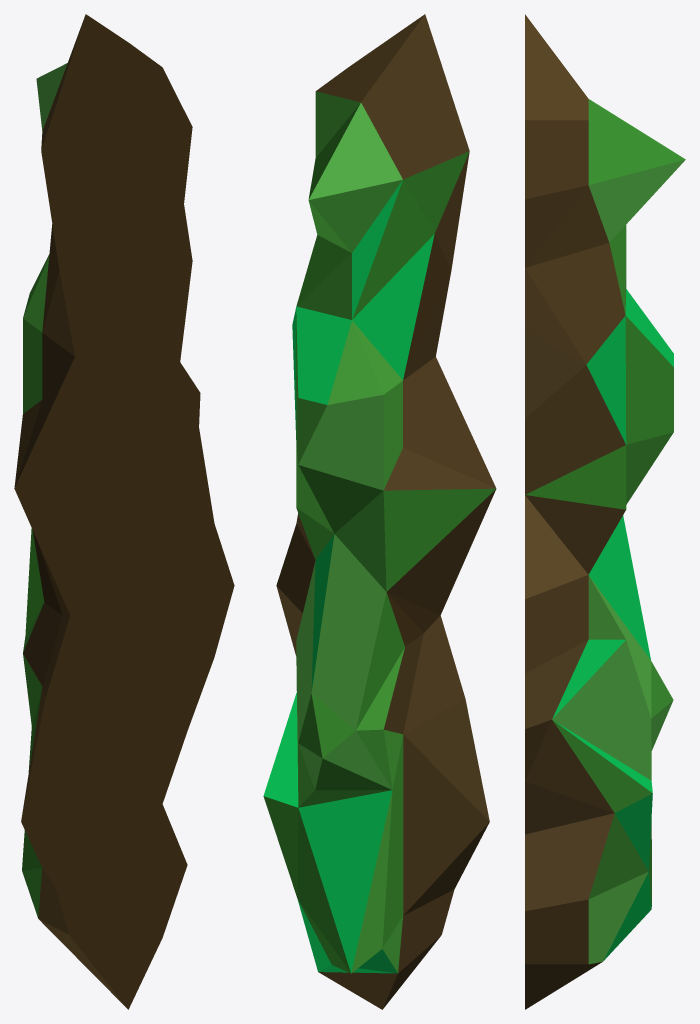
Rendered from forest_mountain_2.fbx.
The picture shows the model from 3 angles, left to right: view 1: azimuth 30°, elevation 25°; view 2: azimuth 150°, elevation 25°; view 3: azimuth 270°, elevation 25°; orthographic projection. The views are drawn at different scales.
Parts seen in each view (by area): view 1: forest_middle_mountain_2; view 2: forest_middle_mountain_2; view 3: forest_middle_mountain_2.
Part boxes in pixels (left/top/right/bottom): forest_middle_mountain_2: left=14, top=14, right=234, bottom=1009; forest_middle_mountain_2: left=263, top=14, right=496, bottom=1009; forest_middle_mountain_2: left=525, top=14, right=685, bottom=1009.
Size of the model in its own units: 236 by 1032 by 154.
